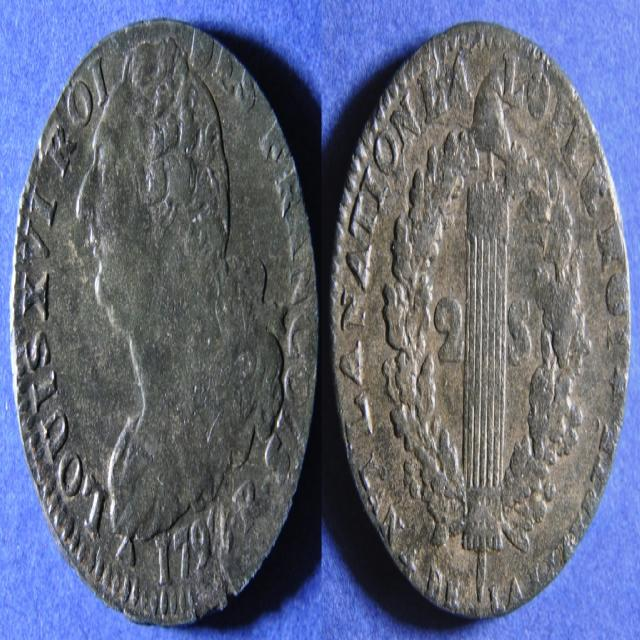Coin: (10, 13, 324, 629), (331, 21, 631, 629)
